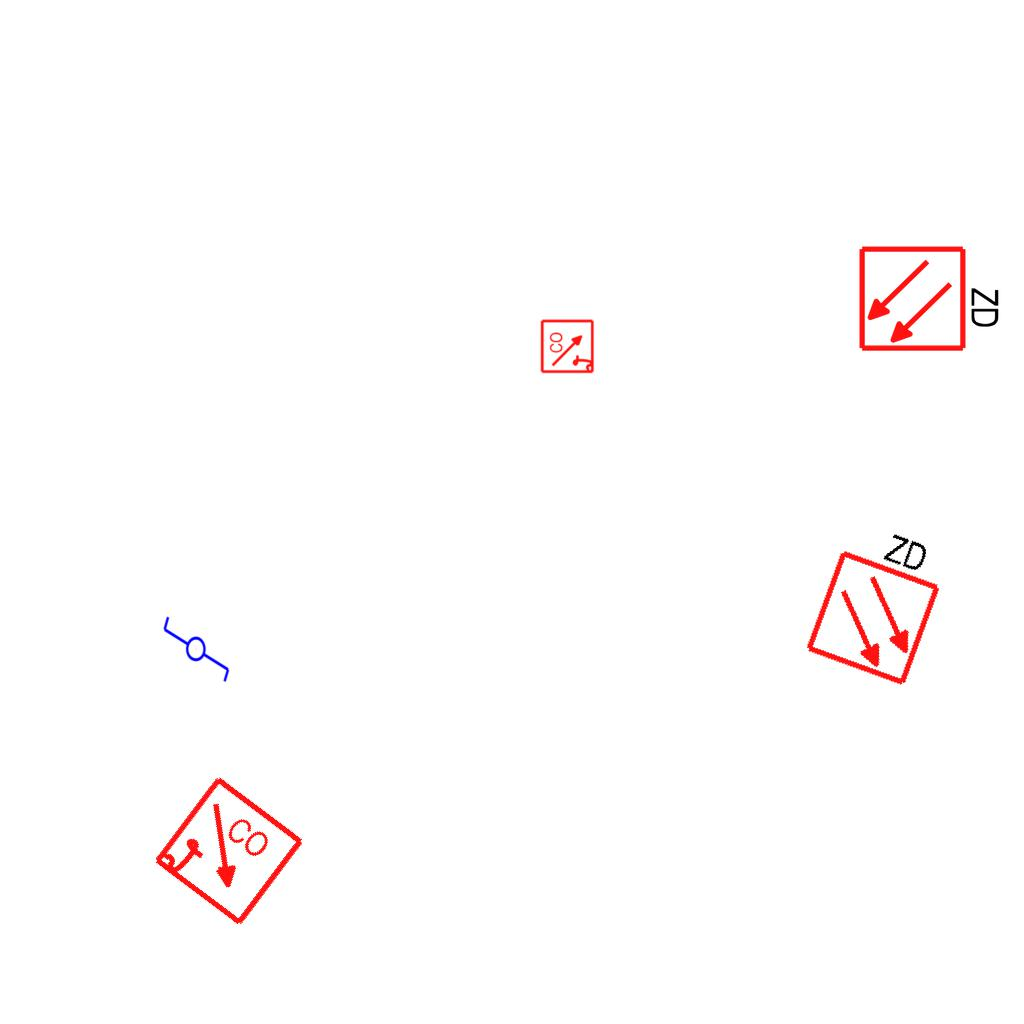ROA_Rauchmelder_optisch_mit_Signalgeber_(Sockelsirene): (149, 773, 308, 932), (540, 318, 596, 374)
Wechselschalter: (161, 606, 233, 684)
ZD_Melder_in_Zwischendecke_mit_Revisionsoeffnung_mind_40_x_40_cm: (798, 509, 958, 690), (857, 240, 1006, 354)
